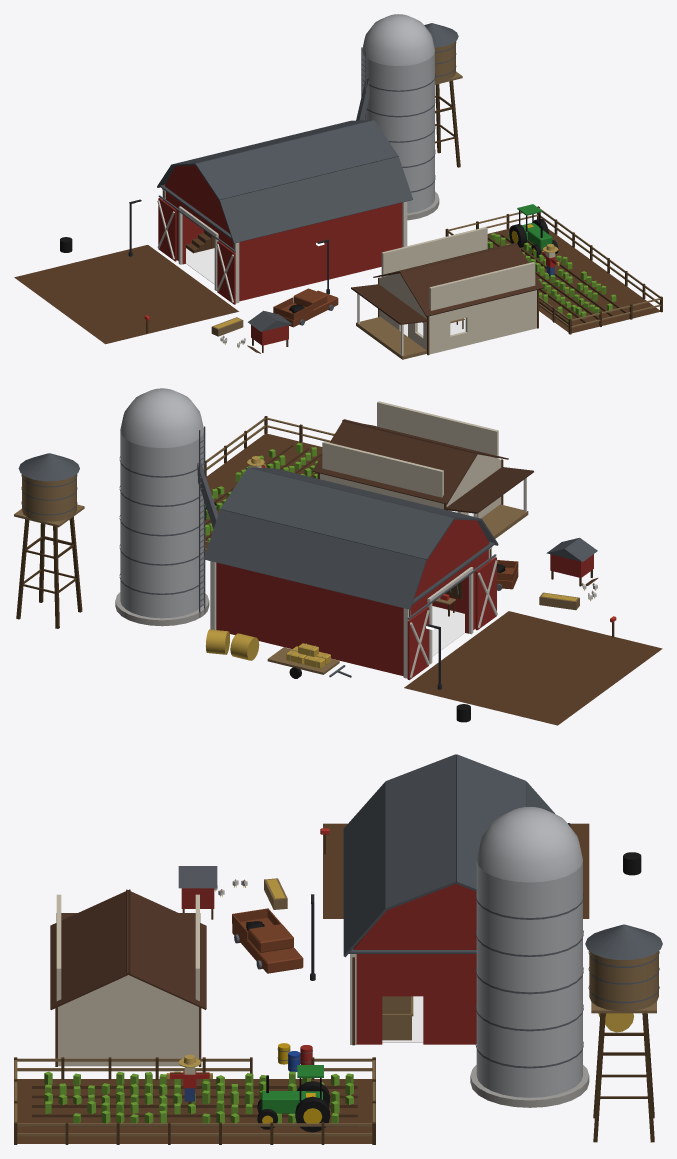
Rendered from tf-ranch-p5.glb.
3 renders of one model, top to bottom at view 1: azimuth 30°, elevation 25°; view 2: azimuth 150°, elevation 25°; view 3: azimuth 270°, elevation 25°, orthographic. The views are drawn at different scales.
Parts seen in each view (by area): view 1: tf-ranch-p5; view 2: tf-ranch-p5; view 3: tf-ranch-p5.
Part boxes in pixels (bbox=[...]): tf-ranch-p5: bbox=[14, 14, 662, 359]; tf-ranch-p5: bbox=[14, 388, 662, 725]; tf-ranch-p5: bbox=[14, 754, 662, 1144].
Bounding box in the file's own units: 37.17 × 14.72 × 31.69.
